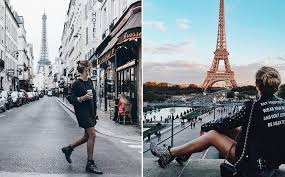people: (199, 67, 285, 177), (62, 60, 103, 174)
